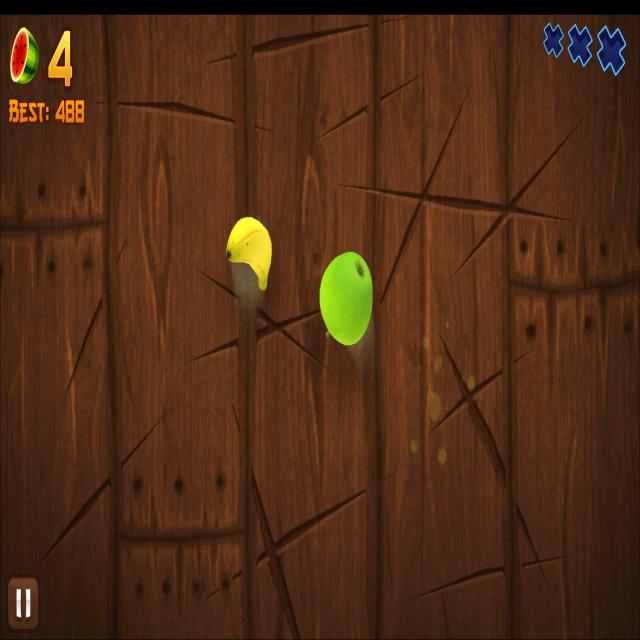fruit: (320, 251, 372, 346), (227, 216, 272, 291)
